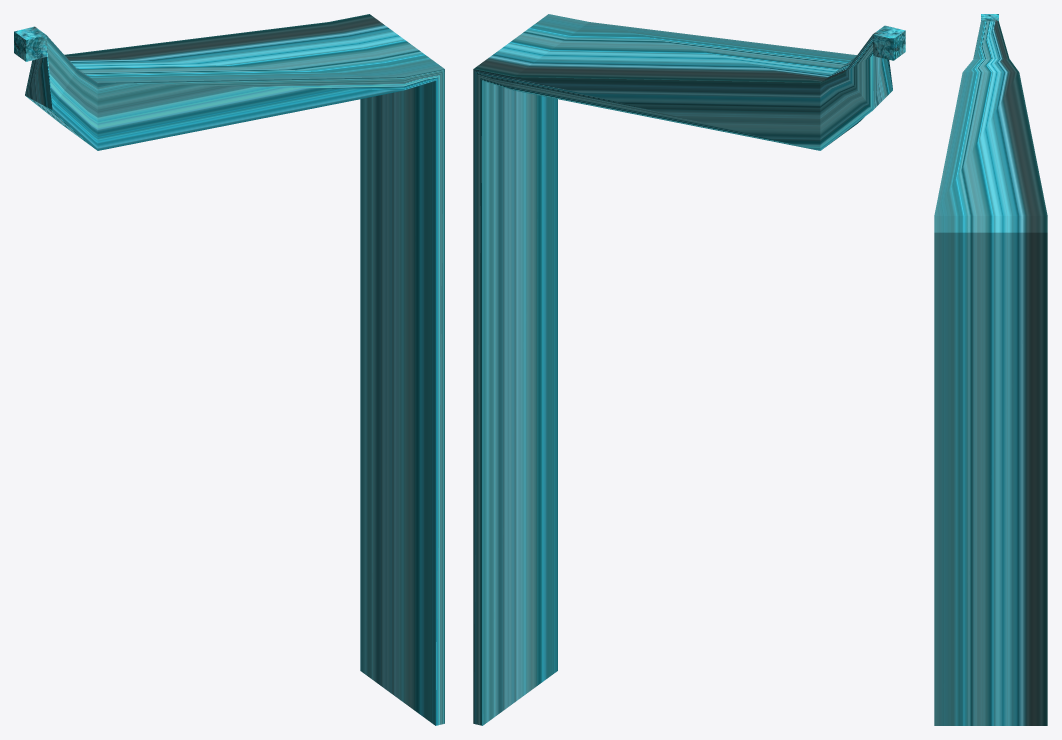
File: Water3.fbx
3 renders of one model, left to right at view 1: azimuth 30°, elevation 25°; view 2: azimuth 150°, elevation 25°; view 3: azimuth 270°, elevation 25°, orthographic. The views are drawn at different scales.
Visible parts, largest first — view 1: Water3; view 2: Water3; view 3: Water3.
Part boxes in pixels (x1,y1,x2,y2): Water3: (14,14,444,725); Water3: (473,14,905,725); Water3: (934,14,1047,725).
Size of the model in its own units: 187 by 349 by 62.94.
Materials: 1 (1 with a texture image).
